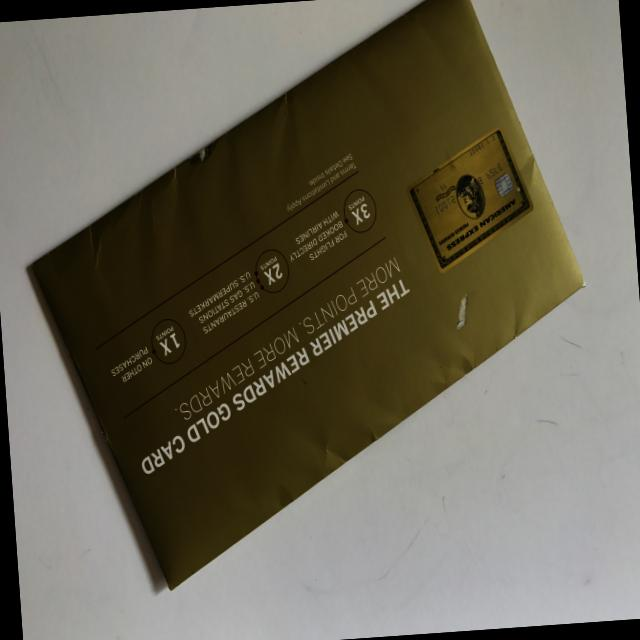Paper: (3, 0, 616, 605)
